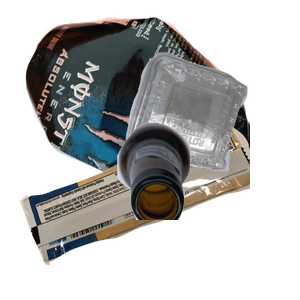glass: (115, 120, 300, 300)
metal: (23, 15, 263, 195)
plastic: (123, 50, 300, 214)
trash: (17, 123, 257, 300)
